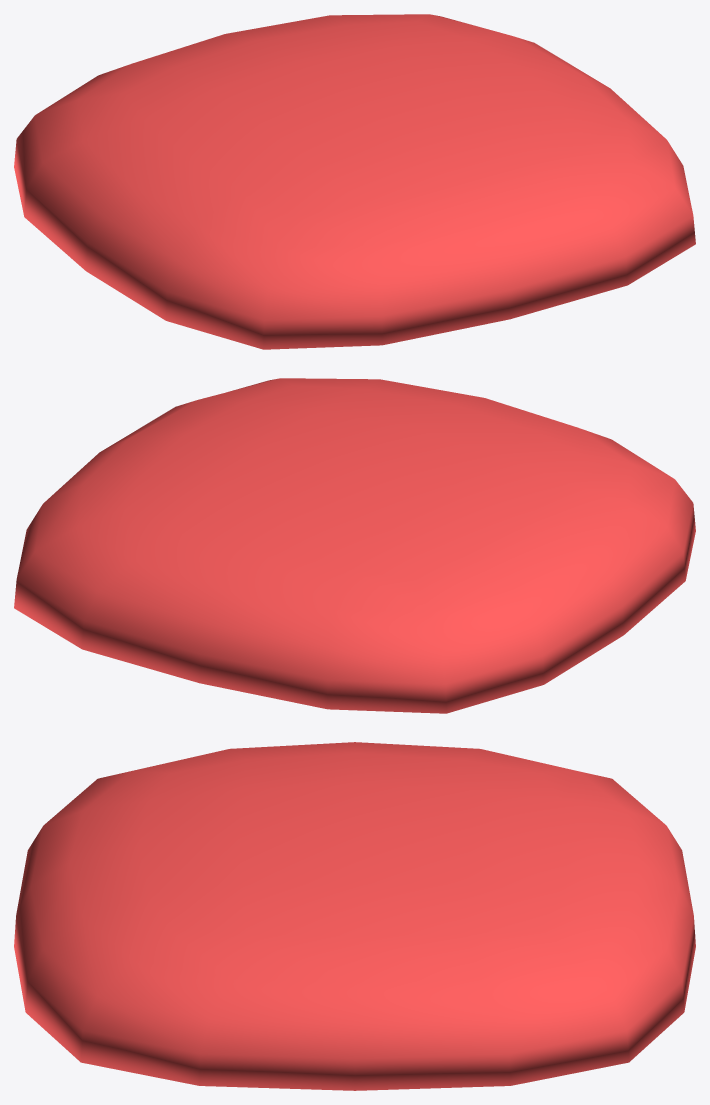
Rendered from tile_wall_half_error.glb.
3 renders of one model, top to bottom at view 1: azimuth 30°, elevation 25°; view 2: azimuth 150°, elevation 25°; view 3: azimuth 270°, elevation 25°, orthographic. The views are drawn at different scales.
Parts seen in each view (by area): view 1: Cube.007; view 2: Cube.007; view 3: Cube.007.
Boxes of the visible parts, x1,y1,x2,y2 form: Cube.007: (14,14,695,349); Cube.007: (14,378,695,713); Cube.007: (14,742,695,1090).
Bounding box in the file's own units: 0.9753 × 0.184 × 0.9753.
